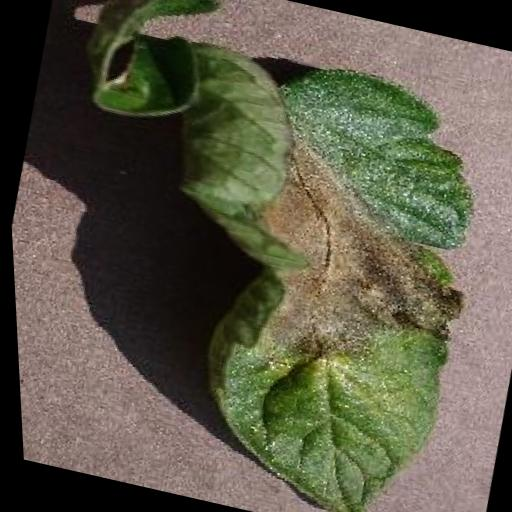Late Blight: (98, 32, 512, 512)
